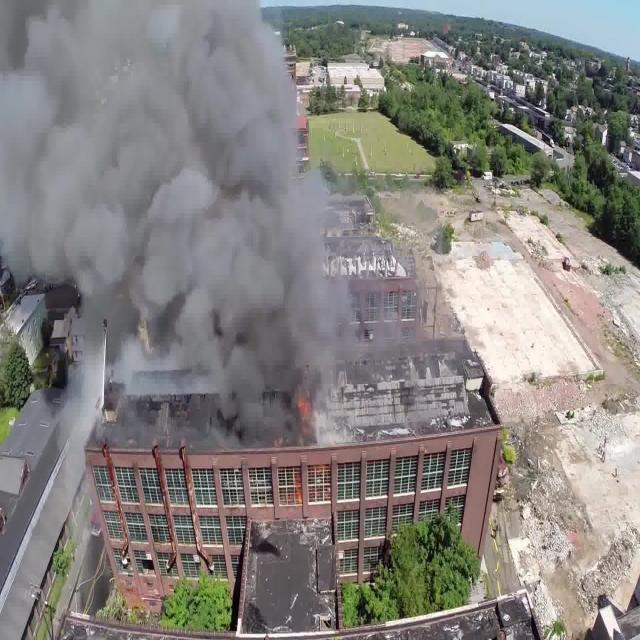Fire: (294, 386, 317, 428), (294, 468, 304, 506)
Smoke: (114, 27, 326, 305), (0, 0, 139, 257)
